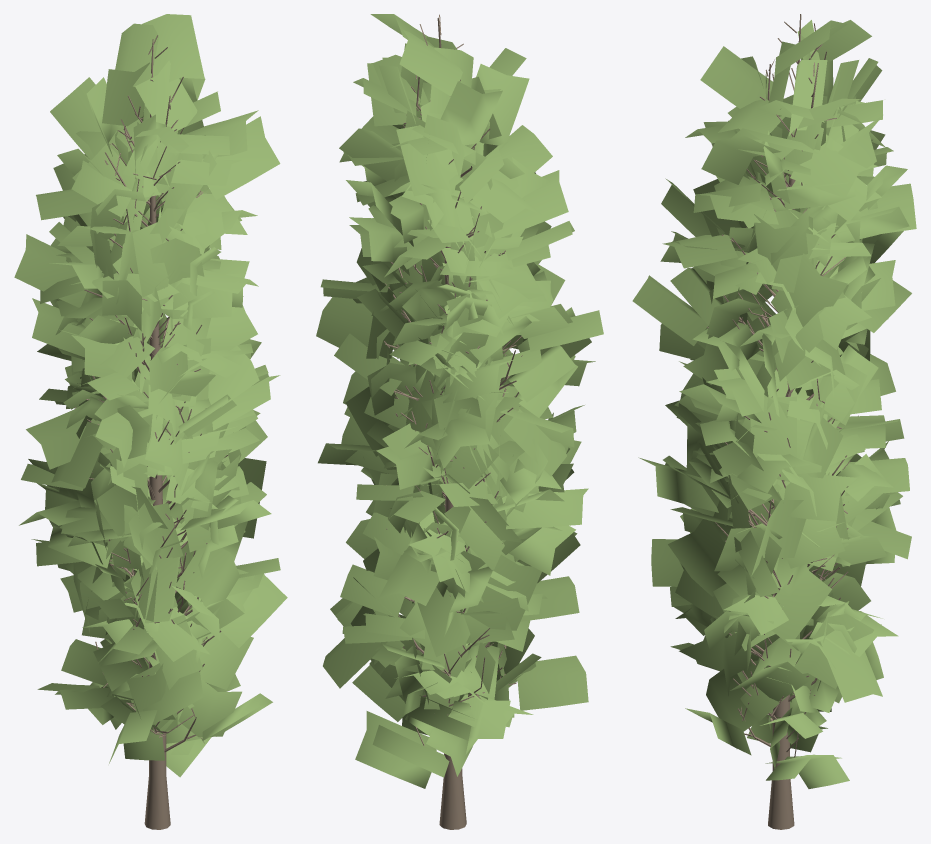
Rendered from Poplar_11_young_lod0.glb.
3 renders of one model, left to right at view 1: azimuth 30°, elevation 25°; view 2: azimuth 150°, elevation 25°; view 3: azimuth 270°, elevation 25°, orthographic. The views are drawn at different scales.
Parts seen in each view (by area): view 1: Poplar_11_young_lod0; view 2: Poplar_11_young_lod0; view 3: Poplar_11_young_lod0.
Boxes of the visible parts, box(x1,y1,x2,y2) form: Poplar_11_young_lod0: box(14, 14, 287, 829); Poplar_11_young_lod0: box(316, 14, 603, 829); Poplar_11_young_lod0: box(632, 14, 916, 829).
Bounding box in the file's own units: 3.7 × 11.38 × 3.57.
